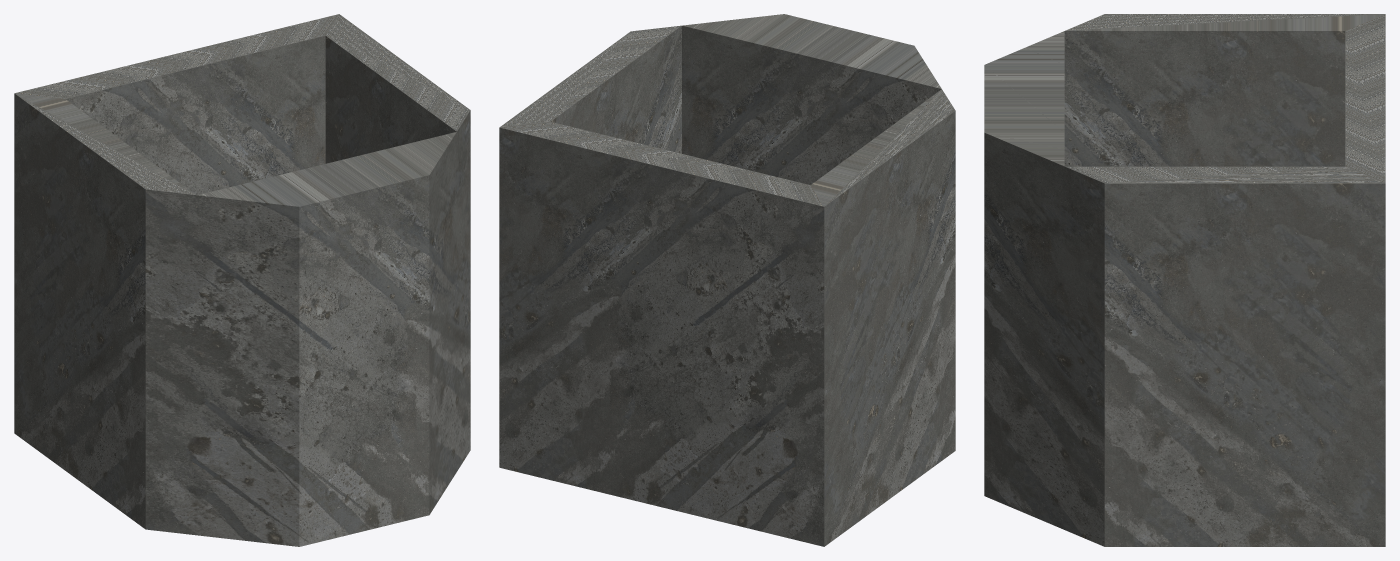
File: Dragonfly_IceSlide_Slide_Pipe_Down_End.fbx
3 renders of one model, left to right at view 1: azimuth 30°, elevation 25°; view 2: azimuth 150°, elevation 25°; view 3: azimuth 270°, elevation 25°, orthographic. The views are drawn at different scales.
Parts seen in each view (by area): view 1: Slide Pipe Down End; view 2: Slide Pipe Down End; view 3: Slide Pipe Down End.
Boxes of the visible parts, x1,y1,x2,y2 form: Slide Pipe Down End: (14,14,470,546); Slide Pipe Down End: (499,14,955,546); Slide Pipe Down End: (984,14,1385,546).
Size of the model in its own units: 10 by 10 by 10.
